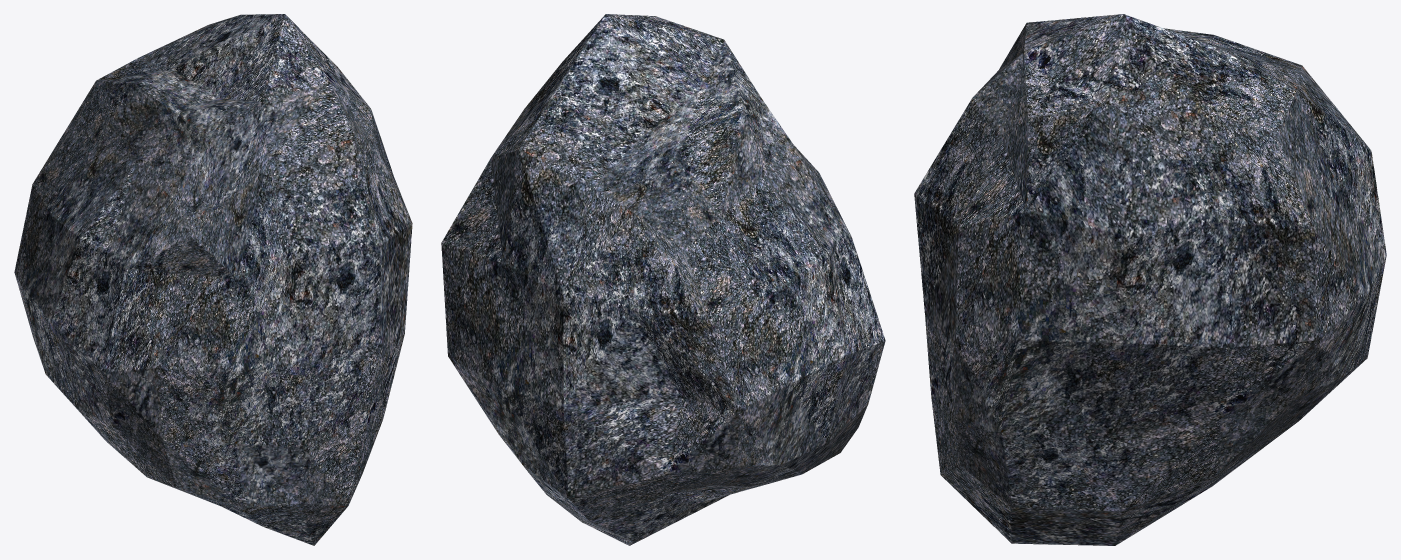
The model's file is asteroid_iron_small_s02_l1.fbx.
3 renders of one model, left to right at view 1: azimuth 30°, elevation 25°; view 2: azimuth 150°, elevation 25°; view 3: azimuth 270°, elevation 25°, orthographic. The views are drawn at different scales.
Visible parts, largest first — view 1: mesh_node; view 2: mesh_node; view 3: mesh_node.
Boxes of the visible parts, x1=… form: mesh_node: x1=14, y1=14, x2=412, y2=545; mesh_node: x1=441, y1=14, x2=885, y2=545; mesh_node: x1=914, y1=14, x2=1386, y2=545.
Bounding box in the file's own units: 17.54 × 26.57 × 21.01.
